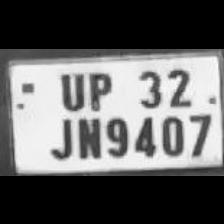0: (158, 110, 184, 156)
2: (162, 63, 194, 107)
3: (133, 64, 163, 108)
4: (130, 110, 156, 156)
7: (185, 108, 213, 158)
9: (101, 110, 128, 156)
J: (45, 112, 75, 158)
N: (74, 112, 102, 158)
P: (82, 68, 114, 108)
U: (54, 66, 86, 110)
